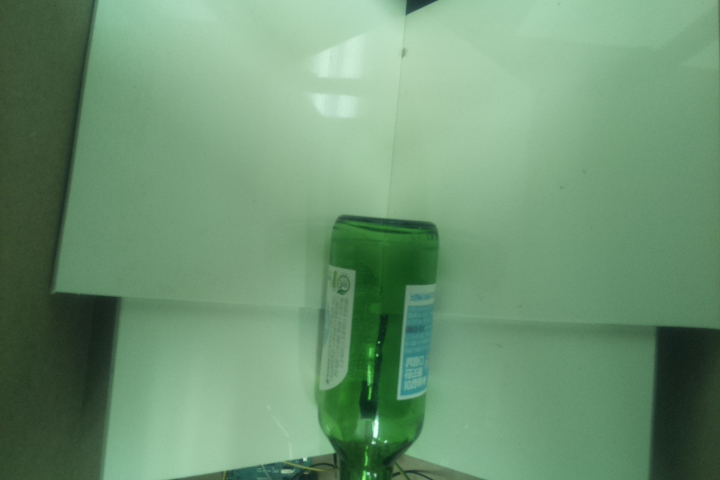soju: (316, 211, 443, 480)
